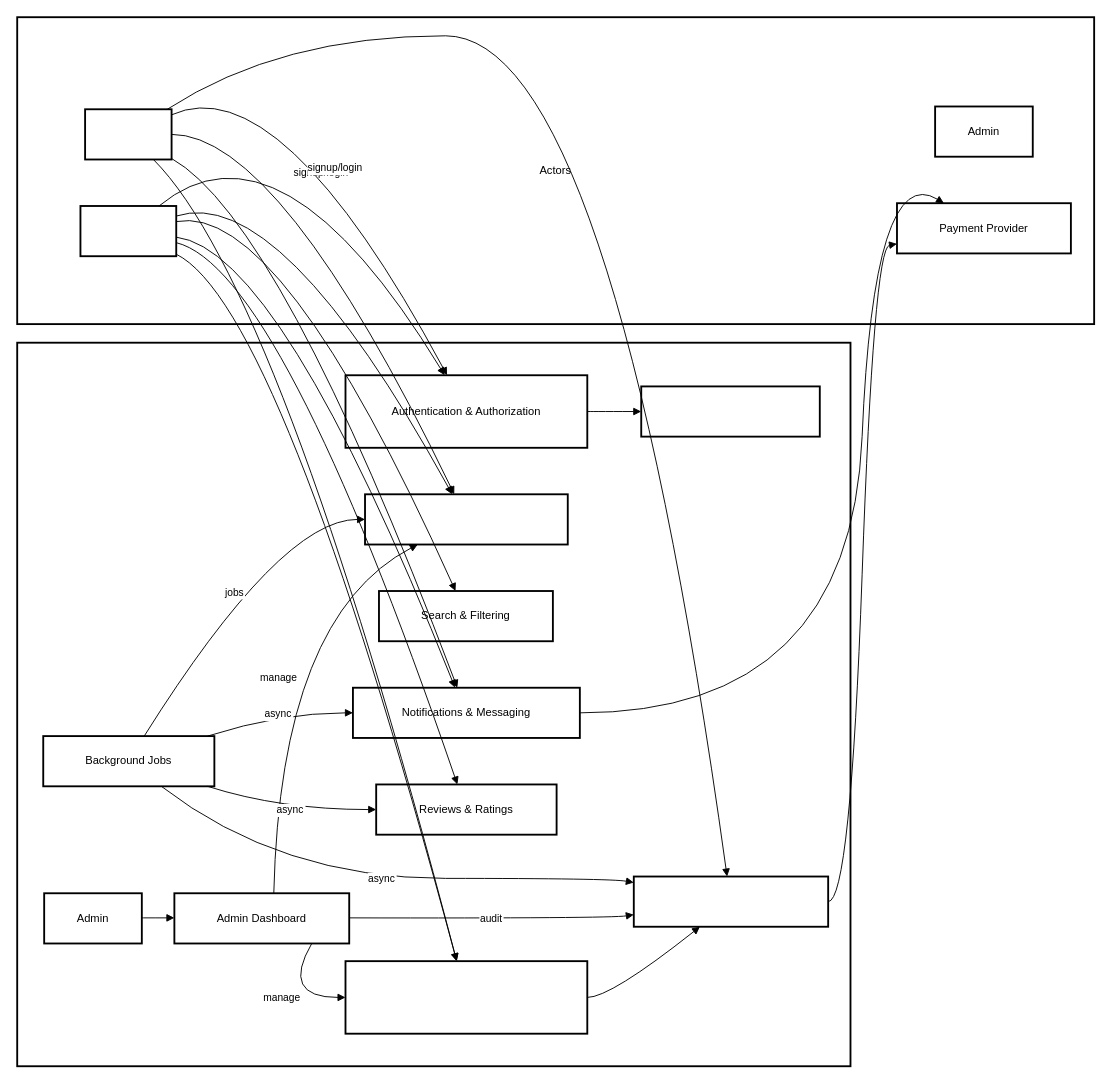
Image size: 1110x1083. Some labels were removed from this diagram. Here are the shapes that lost their labels. From the top down, the centre of each, then its label:
the point at 128,134: Host
the point at 128,231: Guest
the point at 730,411: User Management
the point at 466,519: Property Management
the point at 730,901: Payments & Payouts
the point at 466,997: Booking & Reservation System
